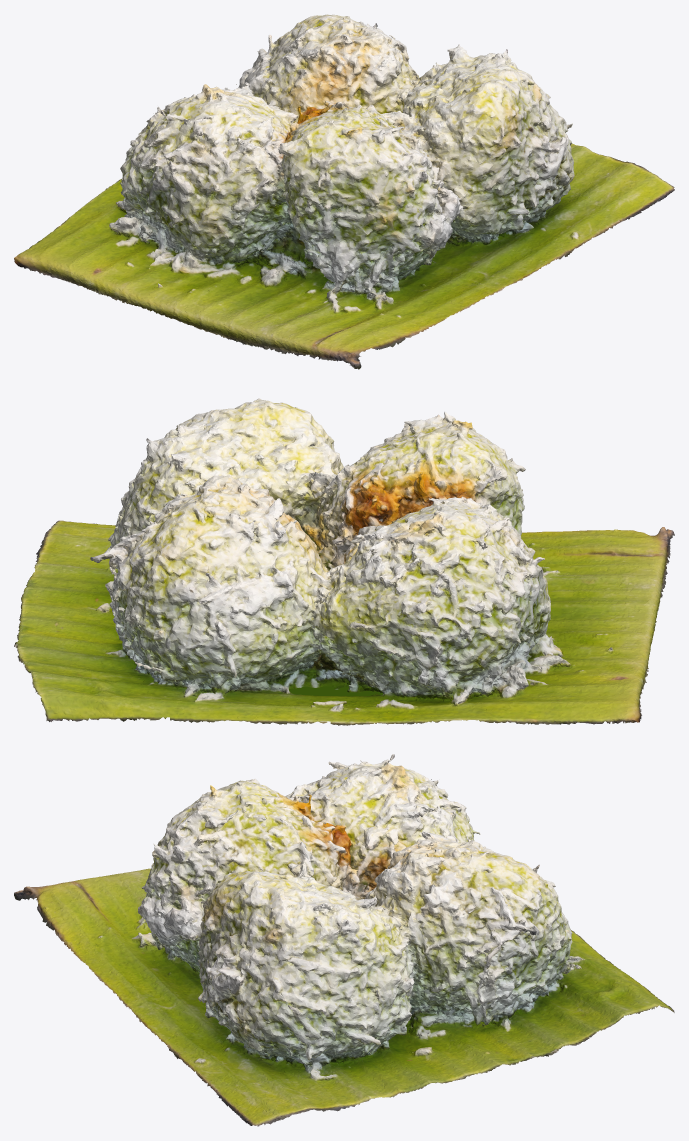
File: ondeh.glb
3 views of the same model, one above another, from view 1: azimuth 30°, elevation 25°; view 2: azimuth 150°, elevation 25°; view 3: azimuth 270°, elevation 25° (orthographic). The views are drawn at different scales.
Visible parts, largest first — view 1: ondeh2; view 2: ondeh2, Plane; view 3: ondeh2.
Part boxes in pixels (x1,y1,x2,y2): ondeh2: (14,14,674,369); ondeh2: (14,398,674,725); Plane: (278,686,383,696); ondeh2: (14,754,674,1126).
Size of the model in its own units: 0.9961 by 0.2681 by 0.927.
Materials: 2 (1 with a texture image).
